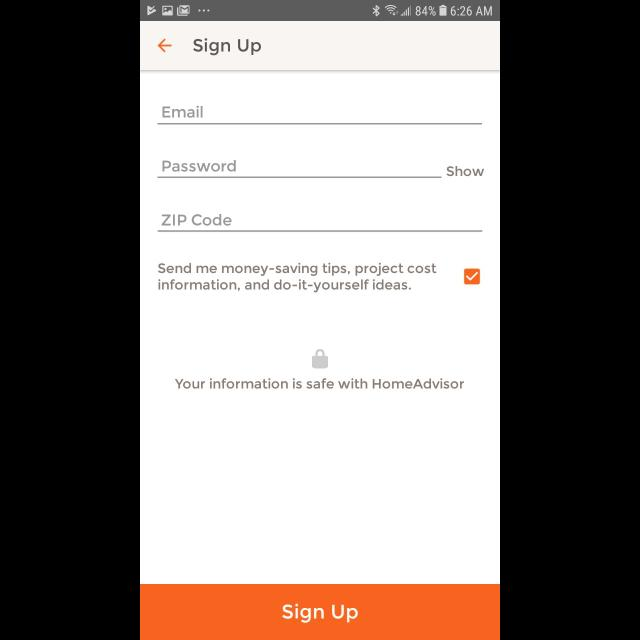checkbox: (464, 268, 480, 284)
icon: (312, 349, 328, 369), (158, 39, 172, 53)
input: (158, 106, 482, 124), (158, 214, 482, 232), (158, 160, 442, 180)
text: (158, 262, 438, 294), (176, 378, 464, 389), (193, 38, 261, 56), (163, 160, 237, 172), (162, 214, 232, 226), (163, 105, 203, 118), (447, 166, 485, 178)
textbutton: (140, 584, 500, 640)
uppertaskbar: (140, 1, 500, 22)
